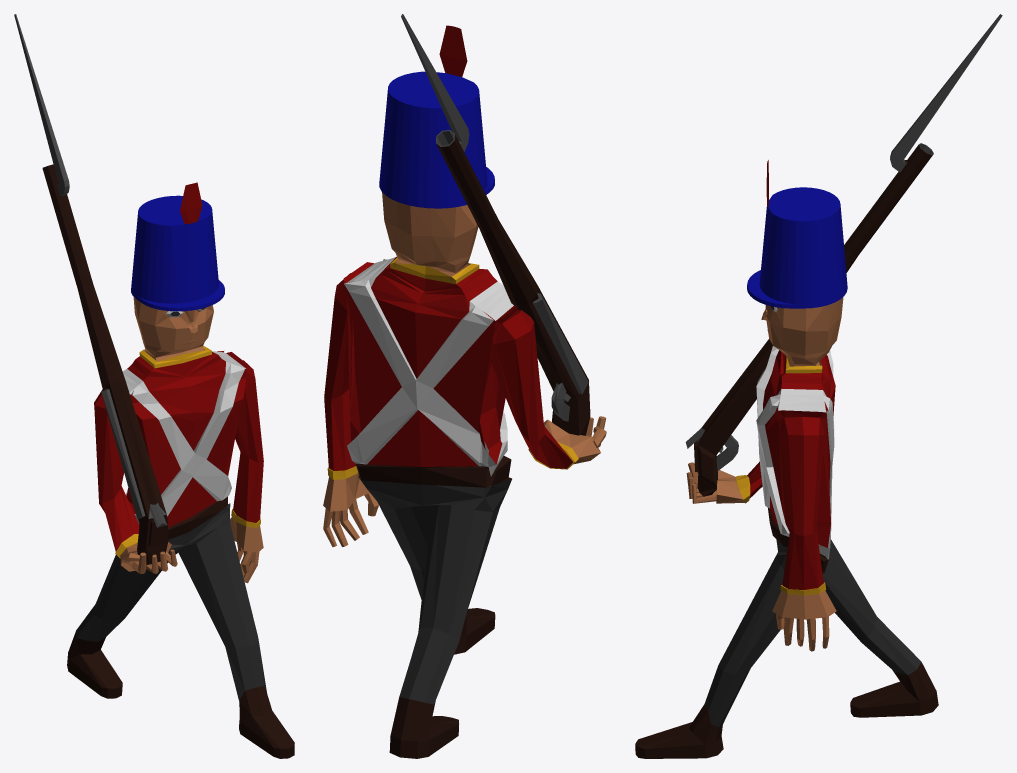
File: Infantry_000125.obj
3 renders of one model, left to right at view 1: azimuth 30°, elevation 25°; view 2: azimuth 150°, elevation 25°; view 3: azimuth 270°, elevation 25°, orthographic. The views are drawn at different scales.
Parts seen in each view (by area): view 1: {Man}_Circle, {Mesket}_Cube.001; view 2: {Man}_Circle, {Mesket}_Cube.001; view 3: {Man}_Circle, {Mesket}_Cube.001.
Part boxes in pixels (x1,y1,x2,y2): {Man}_Circle: (67, 182, 294, 758); {Mesket}_Cube.001: (14, 14, 168, 565); {Man}_Circle: (323, 25, 606, 758); {Mesket}_Cube.001: (401, 14, 590, 435); {Man}_Circle: (635, 160, 938, 758); {Mesket}_Cube.001: (685, 14, 1002, 496).
Bounding box in the file's own units: 5.63 × 18.97 × 9.19.
